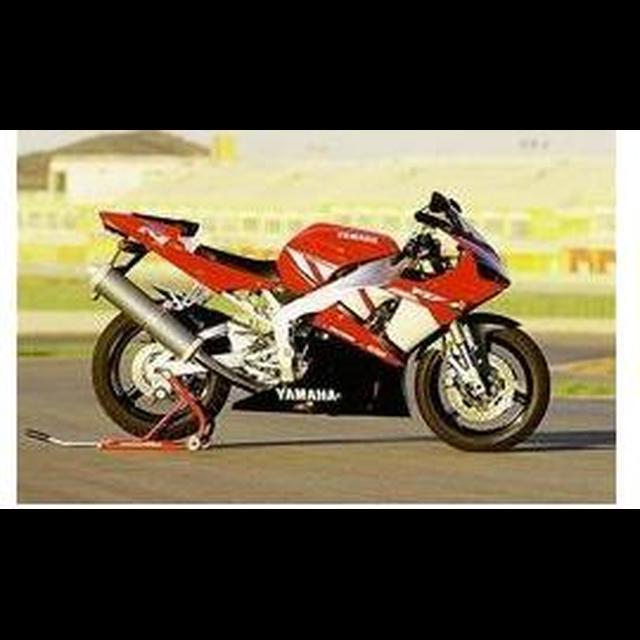motorcycle: (87, 189, 553, 456)
